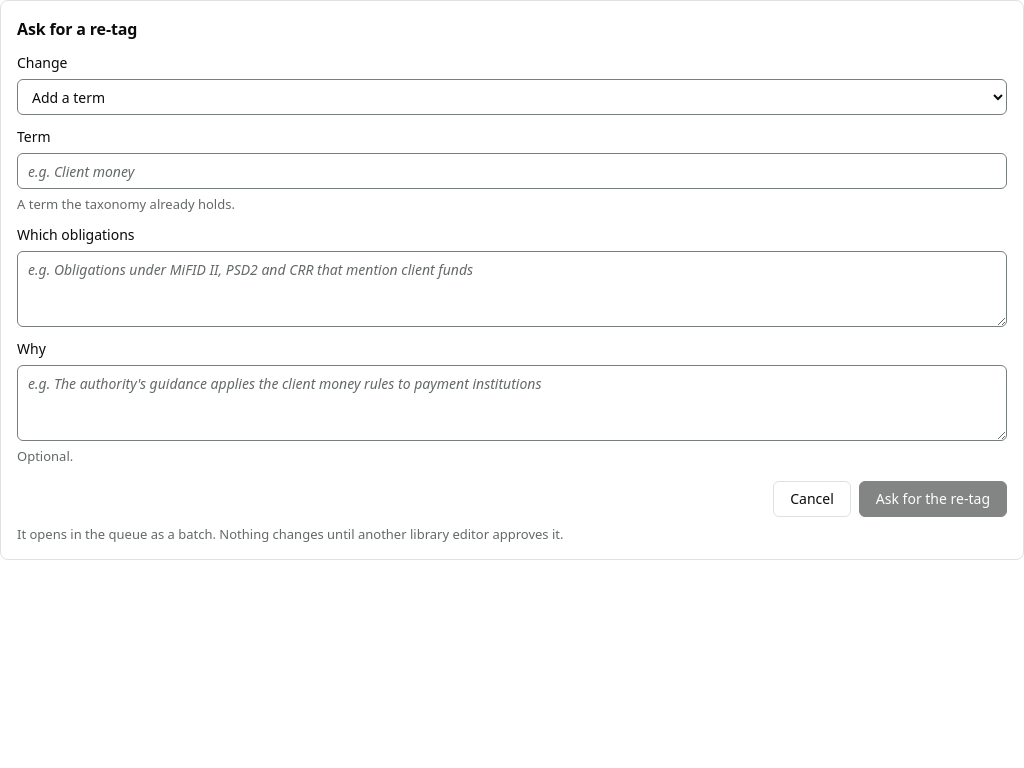
Test case: asking for a re-tag › never offers a term of the mirrored jurisdiction dimension
The image size is (1024, 768).
Type "Sweden" into the field labelled "Term".
click(512, 171); type("Sweden")  # box [17,153,1007,189]
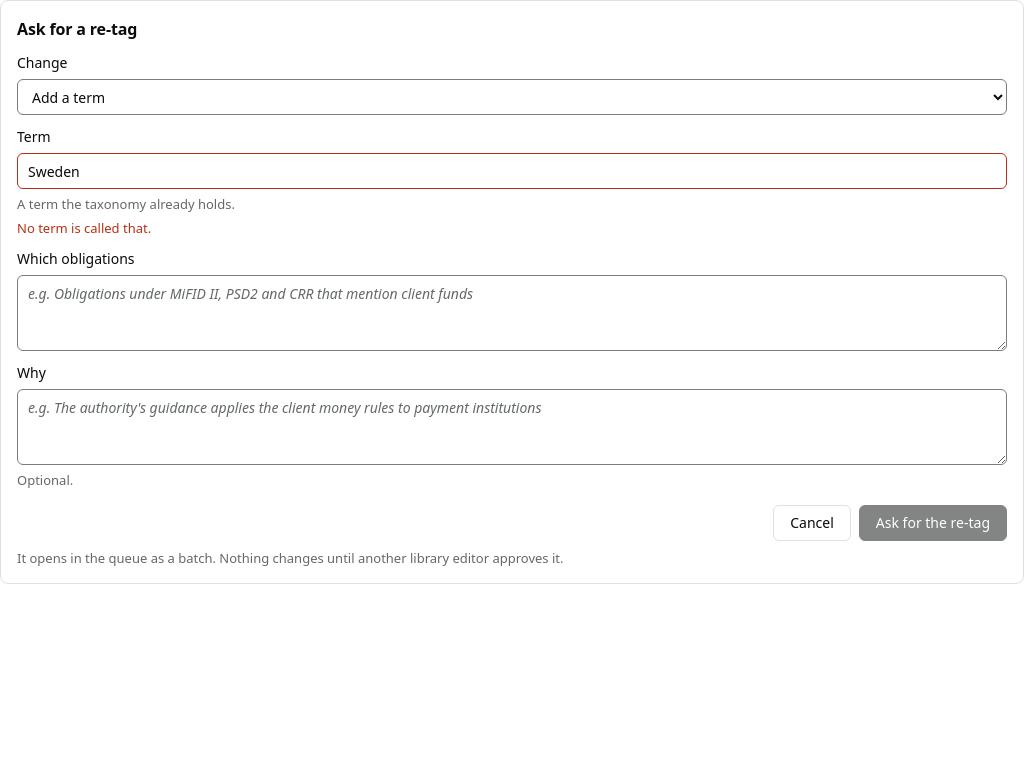
Now the text "No term is called that." is shown, box [17,219,151,237]
